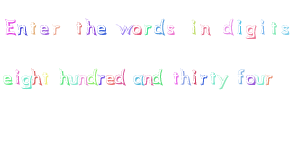E: (2, 14, 16, 39)
a: (132, 72, 144, 88)
d: (221, 15, 235, 41), (115, 66, 129, 90), (152, 17, 166, 40), (151, 67, 164, 88), (88, 66, 98, 88)
e: (1, 71, 14, 88), (39, 20, 51, 38), (96, 19, 107, 37), (105, 71, 115, 89)
f: (236, 63, 246, 88)
g: (30, 63, 43, 87), (244, 22, 257, 42), (22, 72, 31, 91)
h: (54, 63, 70, 89), (84, 13, 97, 39), (180, 68, 192, 89)
i: (235, 17, 245, 38), (258, 17, 269, 36), (189, 16, 198, 38), (12, 67, 22, 86), (191, 67, 198, 86)
n: (199, 21, 214, 38), (79, 67, 89, 89), (16, 20, 29, 36), (143, 71, 154, 89)
o: (131, 19, 143, 39), (245, 72, 256, 89)
r: (50, 22, 67, 41), (96, 68, 107, 90), (142, 19, 153, 39), (265, 71, 275, 89), (199, 71, 208, 89)
s: (280, 22, 292, 38), (165, 23, 177, 37)
t: (72, 18, 84, 38), (28, 16, 38, 37), (169, 69, 180, 85), (269, 18, 279, 35), (43, 70, 51, 89), (208, 67, 216, 86)
u: (68, 70, 80, 89), (255, 72, 267, 88)
w: (114, 19, 133, 40)
y: (216, 72, 231, 92)
